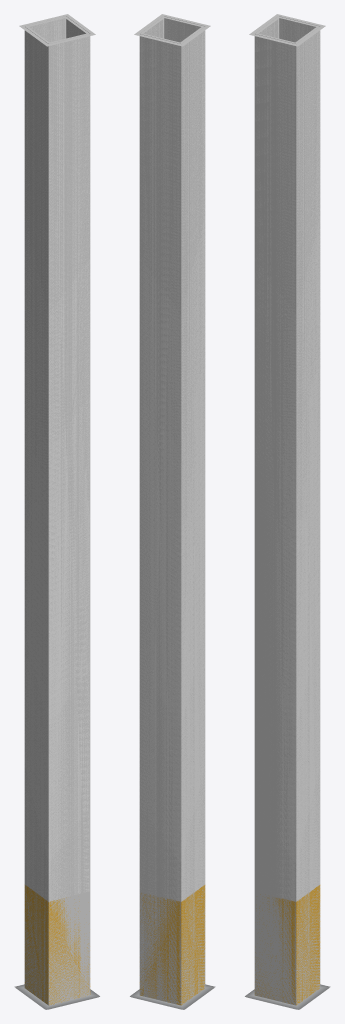
Rendered from s_support_pillar.dae.
The picture shows the model from 3 angles, left to right: view 1: azimuth 30°, elevation 25°; view 2: azimuth 150°, elevation 25°; view 3: azimuth 330°, elevation 25°; orthographic projection.
Parts seen in each view (by area): view 1: colmesh_s_support_pillar-1, s_support_pillar_L150, s_support_pillar_L400; view 2: colmesh_s_support_pillar-1, s_support_pillar_L150, s_support_pillar_L20, s_support_pillar_L400; view 3: colmesh_s_support_pillar-1, s_support_pillar_L400, s_support_pillar_L150.
Part boxes in pixels (x1=…): colmesh_s_support_pillar-1: x1=24, y1=16, x2=90, y2=1005; s_support_pillar_L150: x1=14, y1=17, x2=99, y2=1009; s_support_pillar_L400: x1=16, y1=14, x2=98, y2=1009; colmesh_s_support_pillar-1: x1=139, y1=16, x2=205, y2=1005; s_support_pillar_L150: x1=130, y1=18, x2=215, y2=1009; s_support_pillar_L20: x1=139, y1=35, x2=181, y2=1004; s_support_pillar_L400: x1=131, y1=14, x2=213, y2=1009; colmesh_s_support_pillar-1: x1=254, y1=16, x2=320, y2=1005; s_support_pillar_L400: x1=246, y1=14, x2=328, y2=1009; s_support_pillar_L150: x1=245, y1=18, x2=330, y2=1009.
Size of the model in its own units: 0.655 by 0.655 by 11.
